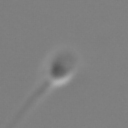normal: (4, 80, 61, 128)
